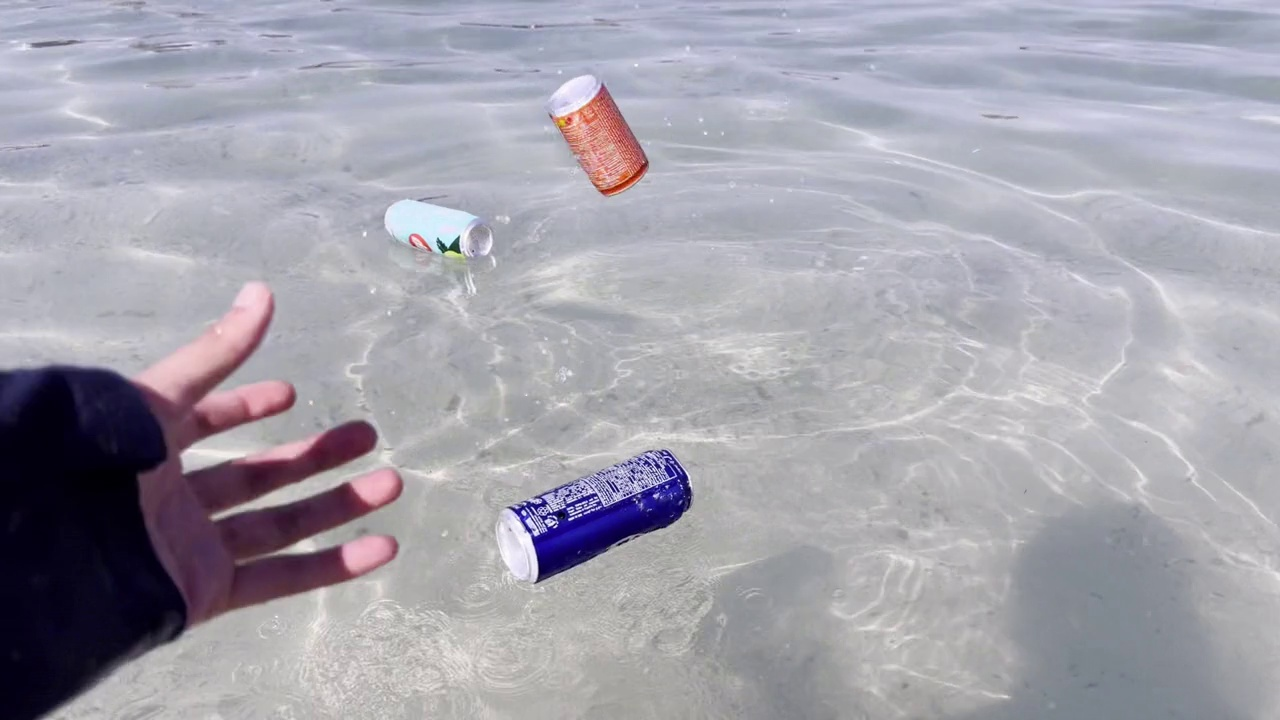debris: (477, 431, 699, 598), (547, 65, 659, 203), (384, 190, 500, 280)
